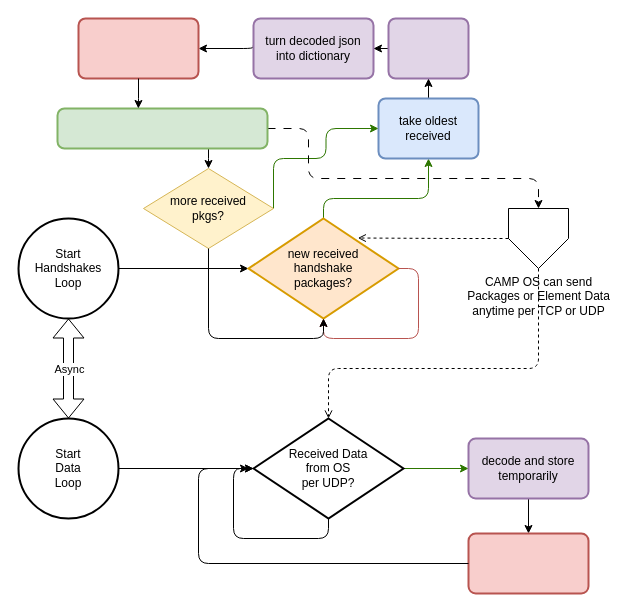
This 627x611 diagram has some shape labels left out. Here are the shapes that lost their labels. From the top down, the centre of each, then its label:
At [138,48]: "store every received element/module accordingly".
At [428,48]: "decode".
At [162,128]: "send confirm to Endo per TCP".
At [528,563]: "update related element's recent data of received type".
